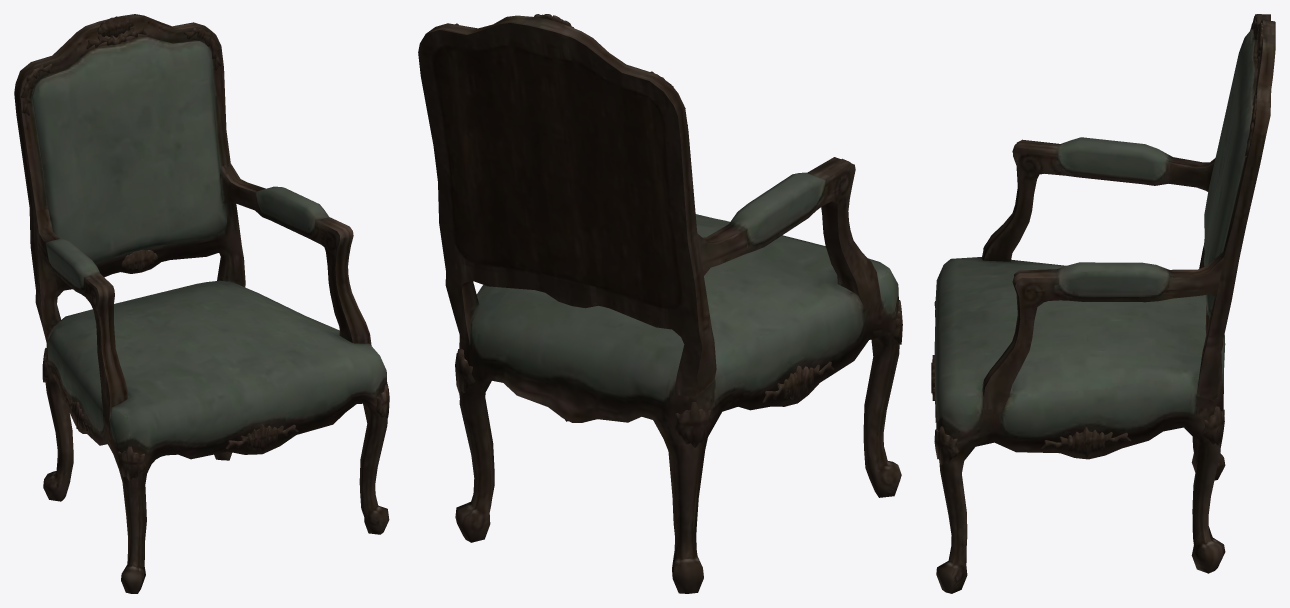
The model's file is green-chair.glb.
3 views of the same model, side by side, from view 1: azimuth 30°, elevation 25°; view 2: azimuth 150°, elevation 25°; view 3: azimuth 270°, elevation 25° (orthographic). The views are drawn at different scales.
Visible parts, largest first — view 1: GreenChair_01; view 2: GreenChair_01; view 3: GreenChair_01.
Boxes of the visible parts, x1,y1,x2,y2 form: GreenChair_01: [14, 14, 389, 593]; GreenChair_01: [418, 14, 902, 593]; GreenChair_01: [931, 14, 1275, 593].
Bounding box in the file's own units: 0.6732 × 1.06 × 0.6644.
1 material, 1 textured.
